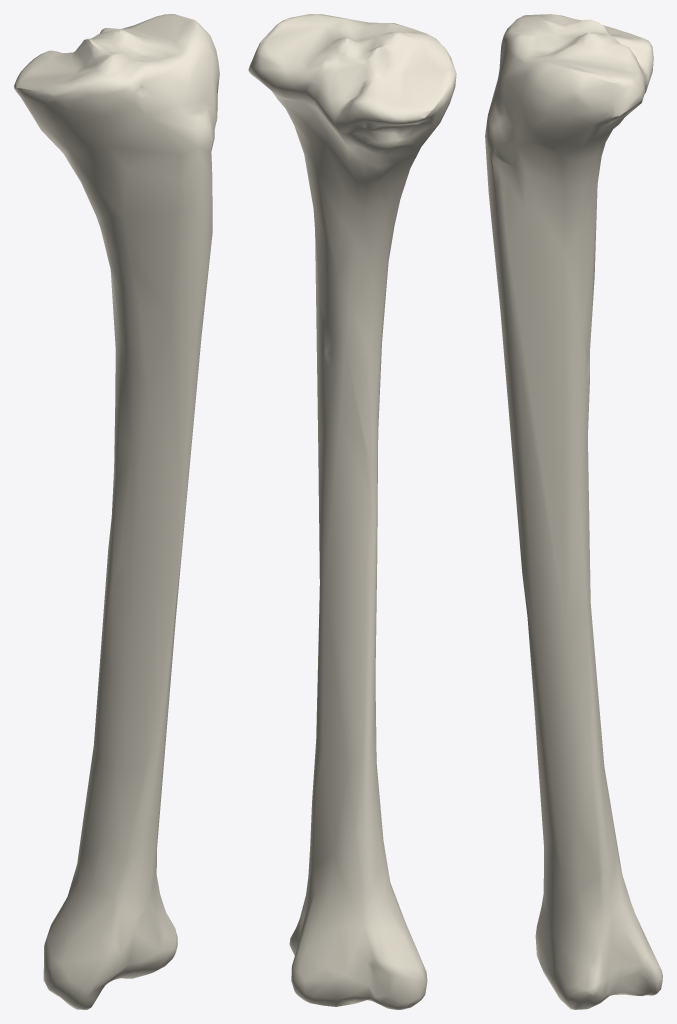
The model's file is fma24478_fj3282.glb.
The picture shows the model from 3 angles, left to right: view 1: azimuth 30°, elevation 25°; view 2: azimuth 150°, elevation 25°; view 3: azimuth 270°, elevation 25°; orthographic projection. The views are drawn at different scales.
Parts seen in each view (by area): view 1: FMA24478_FJ3282; view 2: FMA24478_FJ3282; view 3: FMA24478_FJ3282.
Boxes of the visible parts, x1=… form: FMA24478_FJ3282: x1=14, y1=14, x2=219, y2=1009; FMA24478_FJ3282: x1=248, y1=14, x2=456, y2=1009; FMA24478_FJ3282: x1=485, y1=14, x2=662, y2=1009.
Bounding box in the file's own units: 0.0744 × 0.38 × 0.0625.
